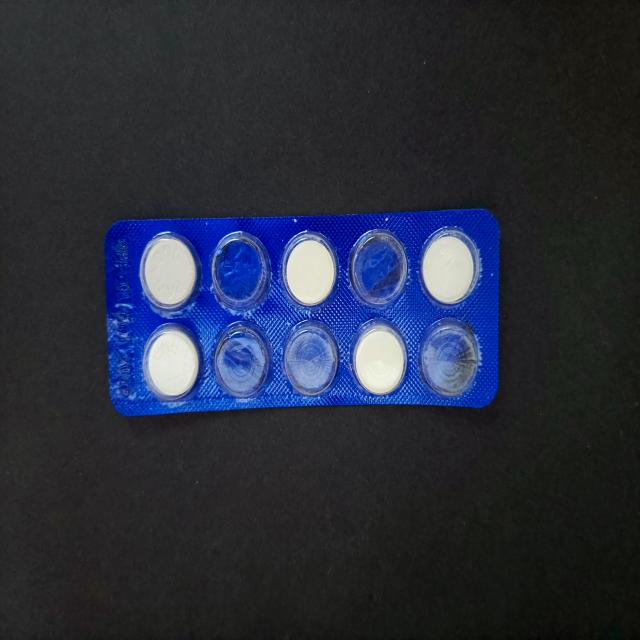defect: (209, 229, 273, 315), (417, 314, 482, 398), (347, 225, 410, 309), (280, 316, 343, 398), (212, 320, 272, 402)
